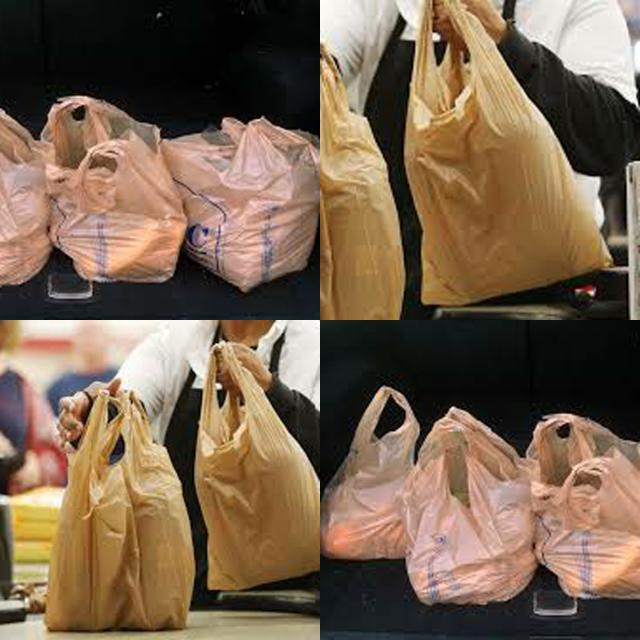Single-layer Plastic: (405, 0, 611, 305), (46, 390, 194, 631), (195, 342, 320, 590), (162, 118, 319, 291), (41, 96, 186, 282), (404, 408, 536, 605), (320, 46, 405, 320), (526, 414, 640, 599), (321, 386, 420, 560), (0, 109, 51, 284)
